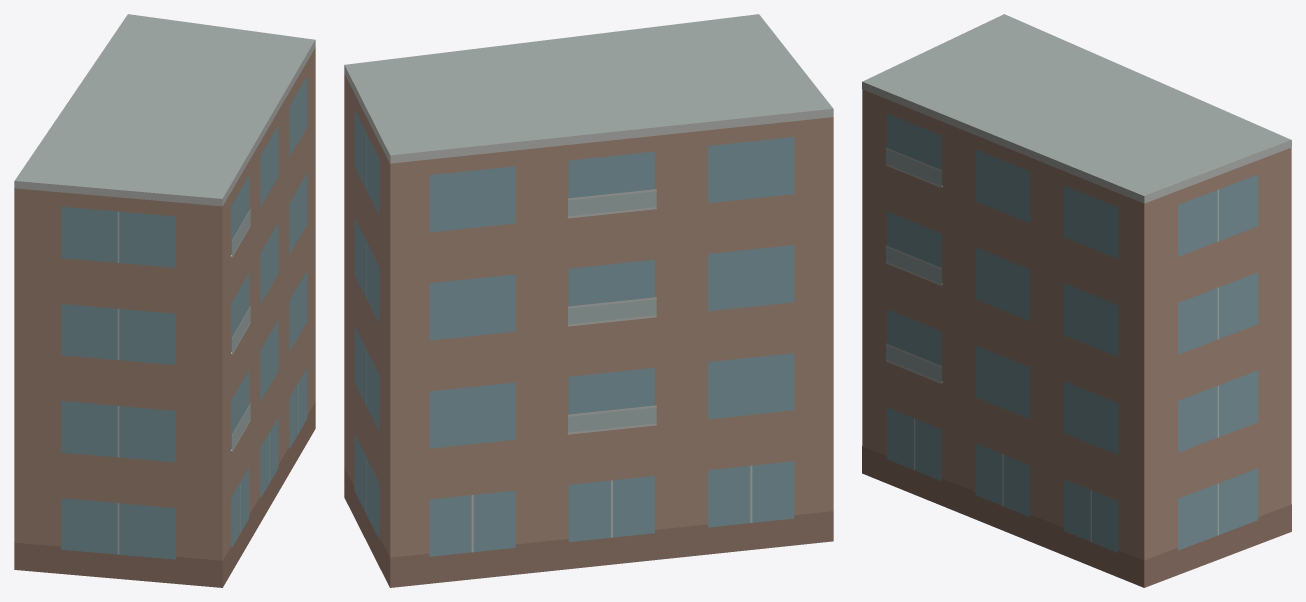
File: survey-upis-32731811.glb
3 renders of one model, left to right at view 1: azimuth 30°, elevation 25°; view 2: azimuth 150°, elevation 25°; view 3: azimuth 270°, elevation 25°, orthographic. The views are drawn at different scales.
Visible parts, largest first — view 1: survey-upis-32731811.tmp; view 2: survey-upis-32731811.tmp; view 3: survey-upis-32731811.tmp.
Boxes of the visible parts, bbox=[...] form: survey-upis-32731811.tmp: bbox=[14, 14, 315, 587]; survey-upis-32731811.tmp: bbox=[344, 14, 833, 587]; survey-upis-32731811.tmp: bbox=[862, 14, 1291, 587].
Bounding box in the file's own units: 12.72 × 12.75 × 12.68.
